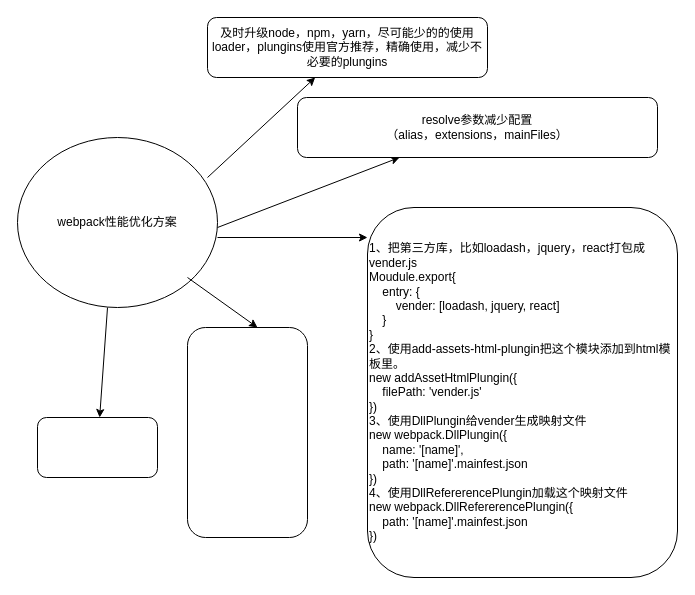
Some shapes in this 695 by 595 pixel diagram are drawn without their labels. The shapes that lost their labels are listed below. From the top down, each one's centre as x and y in pixels, then its label:
At point (97, 447): "合理使用sourcemap".
At point (247, 432): "happypack thread-loader parallel-webpack 多进程打包".
